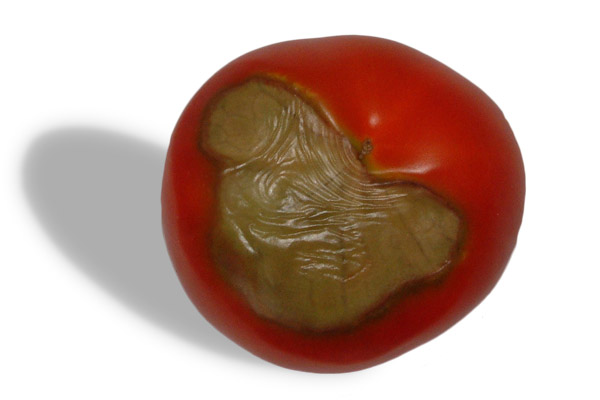blossom_rotw: (196, 76, 485, 326)
